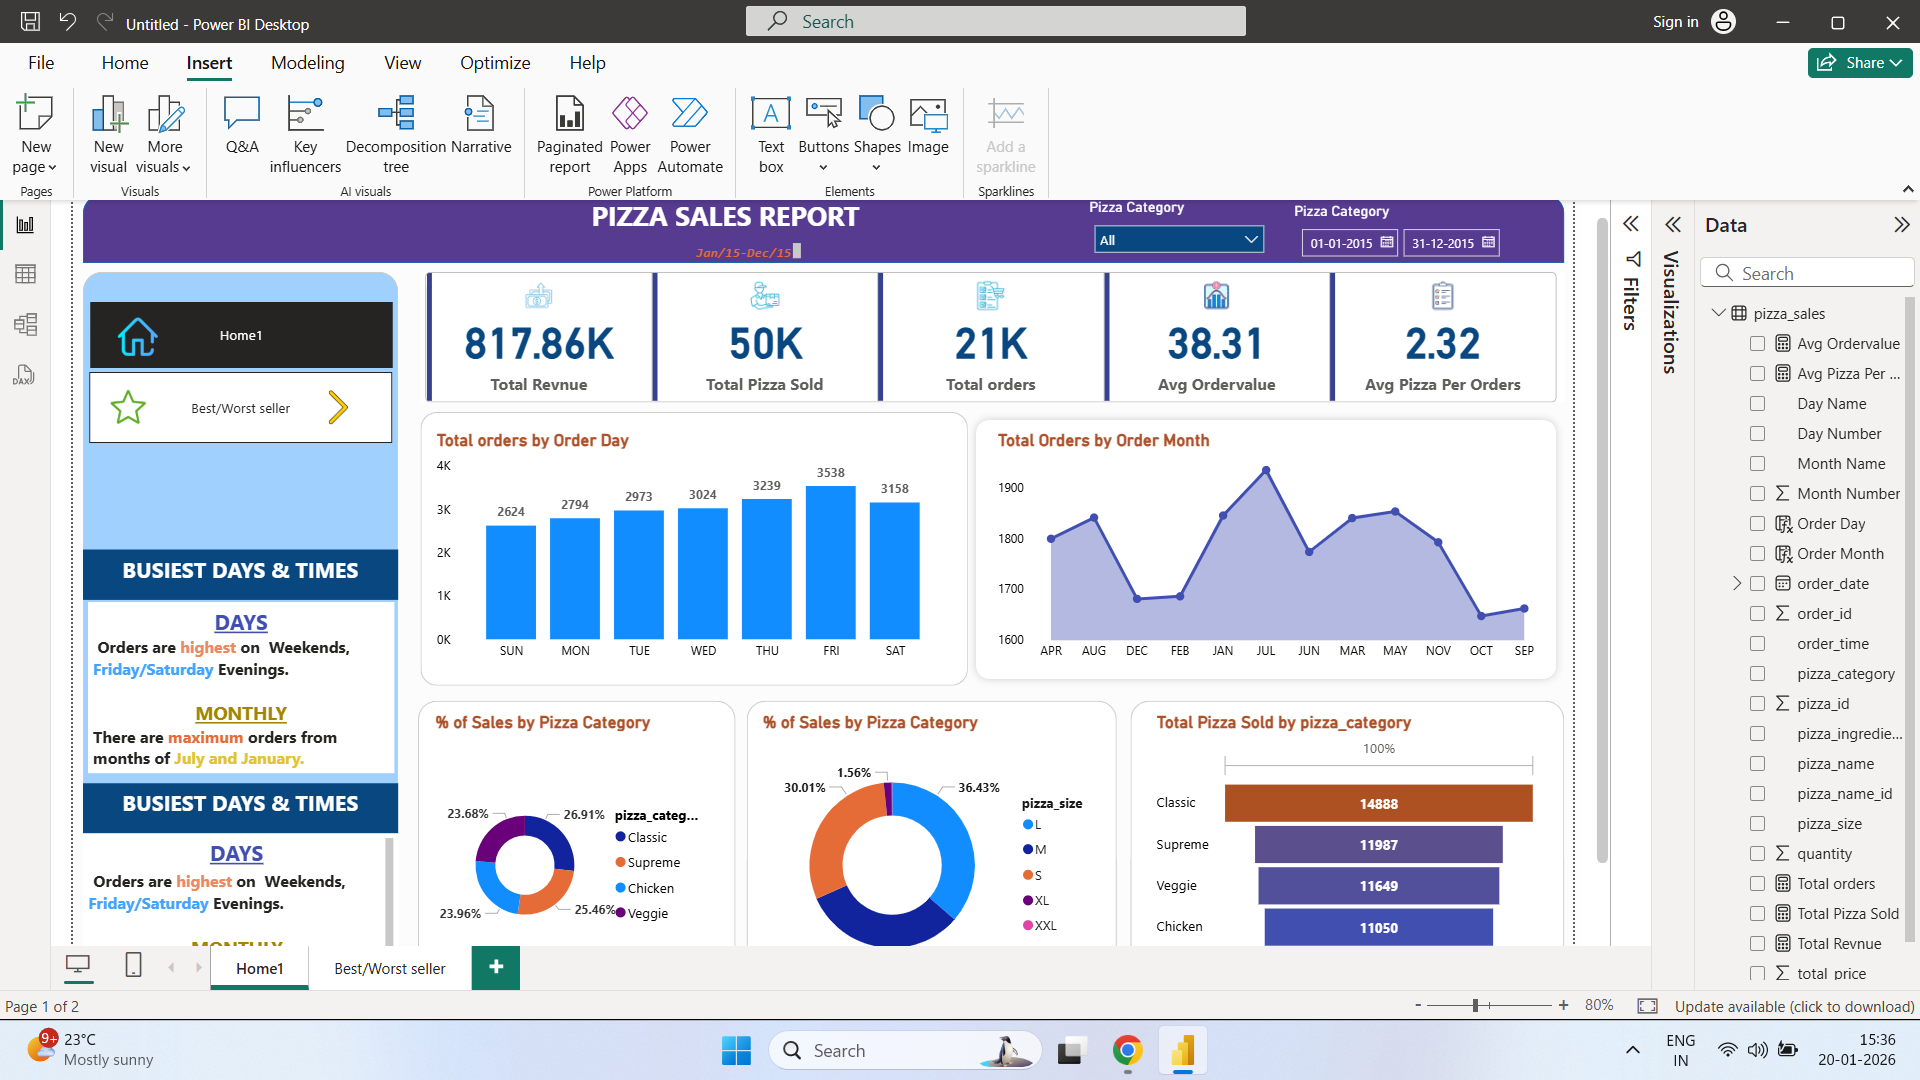

Layout of this report page (visuals, bound fields, positions):
{"tool":"powerbi","page":{"name":"Home1","canvas":[1500,850],"ordinal":0},"visuals":[{"type":"cardVisual","fields":{"Data":["pizza_sales.Total Revnue","pizza_sales.Total Pizza Sold","pizza_sales.Total orders","pizza_sales.Avg Ordervalue","pizza_sales.Avg Pizza Per Orders"]},"box":[347.5,80,1143.8,130],"z":0},{"type":"shape","box":[10,3.8,1481.2,67.5],"z":1000},{"type":"textbox","box":[486.2,0,332.5,55],"z":2000},{"type":"textbox","box":[617.5,46.2,115,25],"z":3000},{"type":"shape","box":[895,220,596.2,275],"z":4000},{"type":"areaChart","title":"Total Orders by Order Month","fields":{"Category":["pizza_sales.Order Month"],"Y":["pizza_sales.Total orders"]},"box":[920,237.5,553.8,240],"z":5000},{"type":"shape","box":[10,80,315,740],"z":6000},{"type":"shape","box":[345,508.8,317.5,311.2],"z":7000},{"type":"shape","box":[1057.5,508.8,433.8,311.2],"z":8000},{"type":"shape","box":[673.8,508.8,370,311.2],"z":9000},{"type":"donutChart","title":"% of Sales by Pizza Category","fields":{"Category":["pizza_sales.pizza_category"],"Y":["Sum(pizza_sales.total_price)"]},"box":[357.5,520,281.2,287.5],"z":10000},{"type":"donutChart","title":"% of Sales by Pizza Category","fields":{"Category":["pizza_sales.pizza_size"],"Y":["pizza_sales.Total orders"]},"box":[685,520,348.8,287.5],"z":11000},{"type":"funnel","fields":{"Category":["pizza_sales.pizza_category"],"Y":["pizza_sales.Total Pizza Sold"]},"box":[1078.8,520,391.2,287.5],"z":12000},{"type":"shape","box":[347.5,220,547.5,273.8],"z":13000},{"type":"columnChart","fields":{"Category":["pizza_sales.Order Day"],"Y":["pizza_sales.Total orders"]},"box":[358.8,237.5,520,240],"z":14000},{"type":"textbox","box":[10,357.5,315,50],"z":15000},{"type":"textbox","box":[15,410,306.2,171.2],"z":16000},{"type":"textbox","box":[10,591.2,315,50],"z":17000},{"type":"textbox","box":[10,641.2,315,166.2],"z":18000},{"type":"slicer","title":"Pizza Category","fields":{"Values":["pizza_sales.pizza_category"]},"box":[1011.2,6.2,190,61.2],"z":19000},{"type":"slicer","title":"Pizza Category","fields":{"Values":["pizza_sales.order_date"]},"box":[1216.2,10,257.5,55],"z":20000},{"type":"pageNavigator","box":[17.5,110,302.5,66.2],"z":21000},{"type":"pageNavigator","box":[16.2,180,303.8,71.2],"z":22000},{"type":"image","box":[232.5,193.8,66.2,43.8],"z":23000},{"type":"image","box":[31.2,120,67.5,50],"z":24000},{"type":"image","box":[31.2,192.5,47.5,45],"z":25000}]}

Visuals, with their boxes on the page's 1500x850 design canvas (x1, y1, x2, y2). These are canvas units, not pixel positions in the 1920x1080 screenshot, which may show the page scaled, cropped or inside an application window:
cardVisual - pizza_sales.Total Revnue x pizza_sales.Total Pizza Sold: bbox=(348, 80, 1491, 210)
shape: bbox=(10, 4, 1491, 71)
textbox: bbox=(486, 0, 819, 55)
textbox: bbox=(618, 46, 732, 71)
shape: bbox=(895, 220, 1491, 495)
"Total Orders by Order Month" areaChart: bbox=(920, 238, 1474, 478)
shape: bbox=(10, 80, 325, 820)
shape: bbox=(345, 509, 662, 820)
shape: bbox=(1058, 509, 1491, 820)
shape: bbox=(674, 509, 1044, 820)
"% of Sales by Pizza Category" donutChart: bbox=(358, 520, 639, 808)
"% of Sales by Pizza Category" donutChart: bbox=(685, 520, 1034, 808)
funnel - pizza_sales.pizza_category x pizza_sales.Total Pizza Sold: bbox=(1079, 520, 1470, 808)
shape: bbox=(348, 220, 895, 494)
columnChart - pizza_sales.Order Day x pizza_sales.Total orders: bbox=(359, 238, 879, 478)
textbox: bbox=(10, 358, 325, 408)
textbox: bbox=(15, 410, 321, 581)
textbox: bbox=(10, 591, 325, 641)
textbox: bbox=(10, 641, 325, 807)
"Pizza Category" slicer: bbox=(1011, 6, 1201, 67)
"Pizza Category" slicer: bbox=(1216, 10, 1474, 65)
pageNavigator: bbox=(18, 110, 320, 176)
pageNavigator: bbox=(16, 180, 320, 251)
image: bbox=(232, 194, 299, 238)
image: bbox=(31, 120, 99, 170)
image: bbox=(31, 192, 79, 238)
